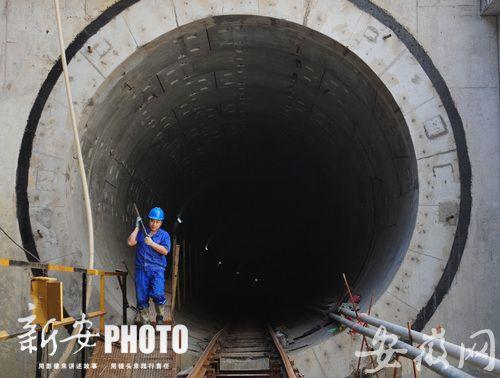helmet: (146, 207, 165, 235)
